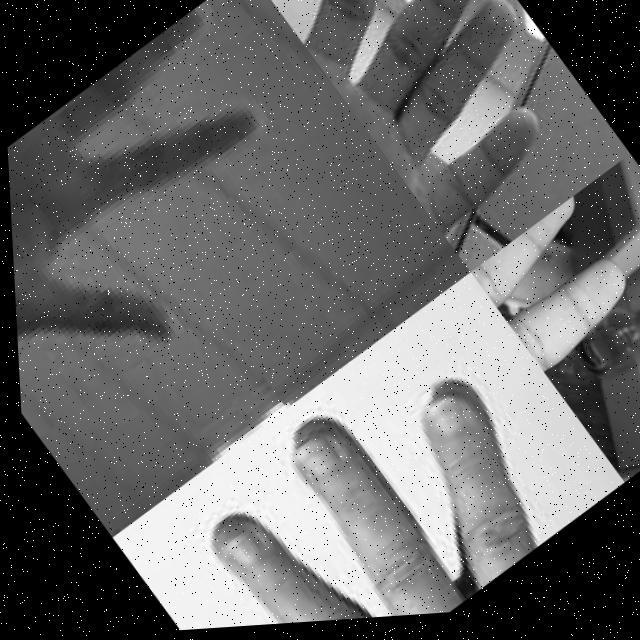no-gloves: (95, 270, 622, 636), (1, 0, 363, 443), (248, 0, 625, 279), (462, 197, 640, 498)
